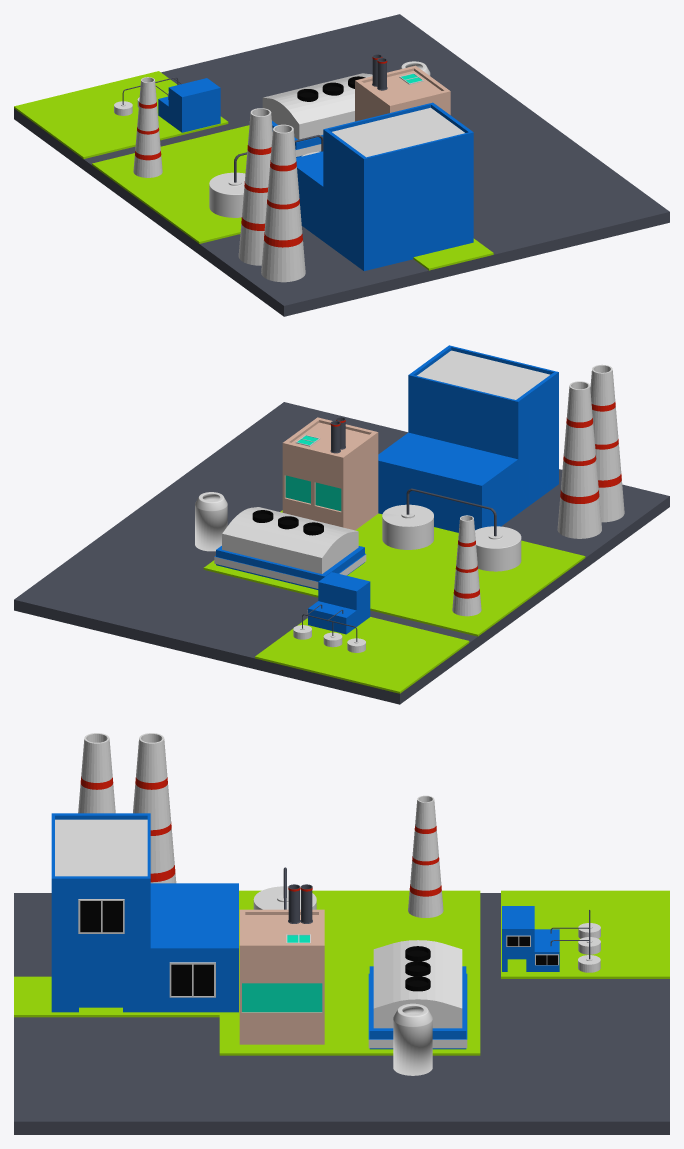
Rendered from SteelPlant.glb.
The picture shows the model from 3 angles, top to bottom: view 1: azimuth 30°, elevation 25°; view 2: azimuth 150°, elevation 25°; view 3: azimuth 270°, elevation 25°; orthographic projection. The views are drawn at different scales.
Parts seen in each view (by area): view 1: SteelPlant; view 2: SteelPlant; view 3: SteelPlant.
Part boxes in pixels (x1,y1,x2,y2): SteelPlant: (14,14,669,316); SteelPlant: (14,345,669,704); SteelPlant: (14,733,669,1134).
Size of the model in its own units: 7.03 by 2.69 by 8.52.
